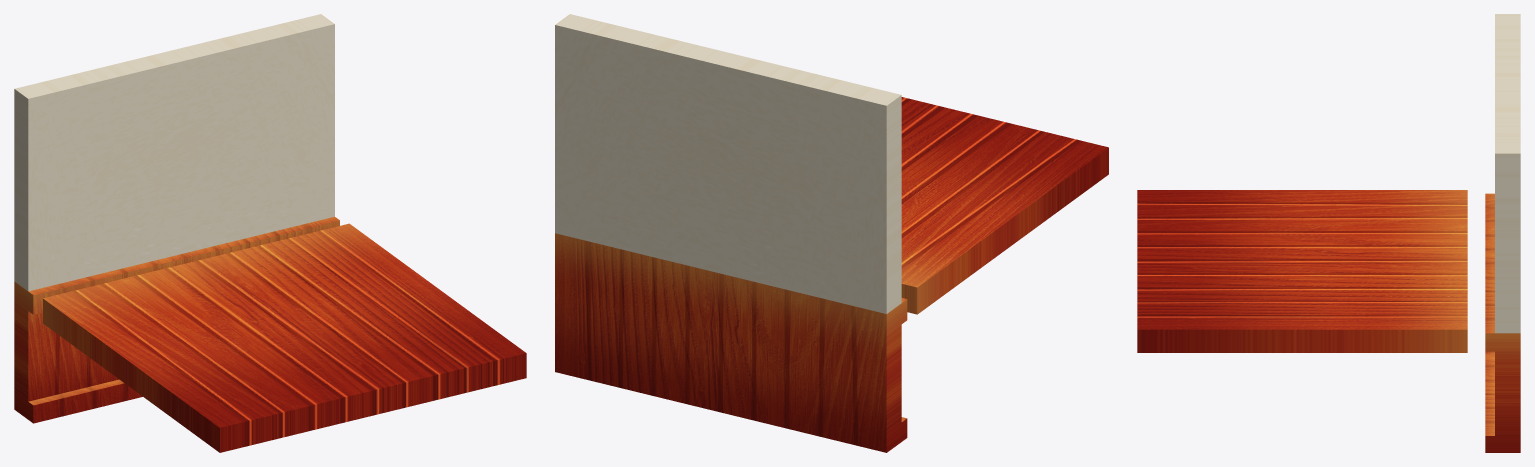
File: stage floor wall2.fbx
The picture shows the model from 3 angles, left to right: view 1: azimuth 30°, elevation 25°; view 2: azimuth 150°, elevation 25°; view 3: azimuth 270°, elevation 25°; orthographic projection. The views are drawn at different scales.
Visible parts, largest first — view 1: wall_1, floor1; view 2: wall_1, floor1; view 3: floor1, wall_1.
Part boxes in pixels (x1,y1,x2,y2): wall_1: [14, 14, 339, 423]; floor1: [43, 223, 526, 452]; wall_1: [555, 14, 907, 452]; floor1: [901, 97, 1108, 314]; floor1: [1137, 190, 1467, 352]; wall_1: [1485, 14, 1520, 452].
Bounding box in the file's own units: 13477 × 13476 × 15638.
Materials: 2 (2 with a texture image).
